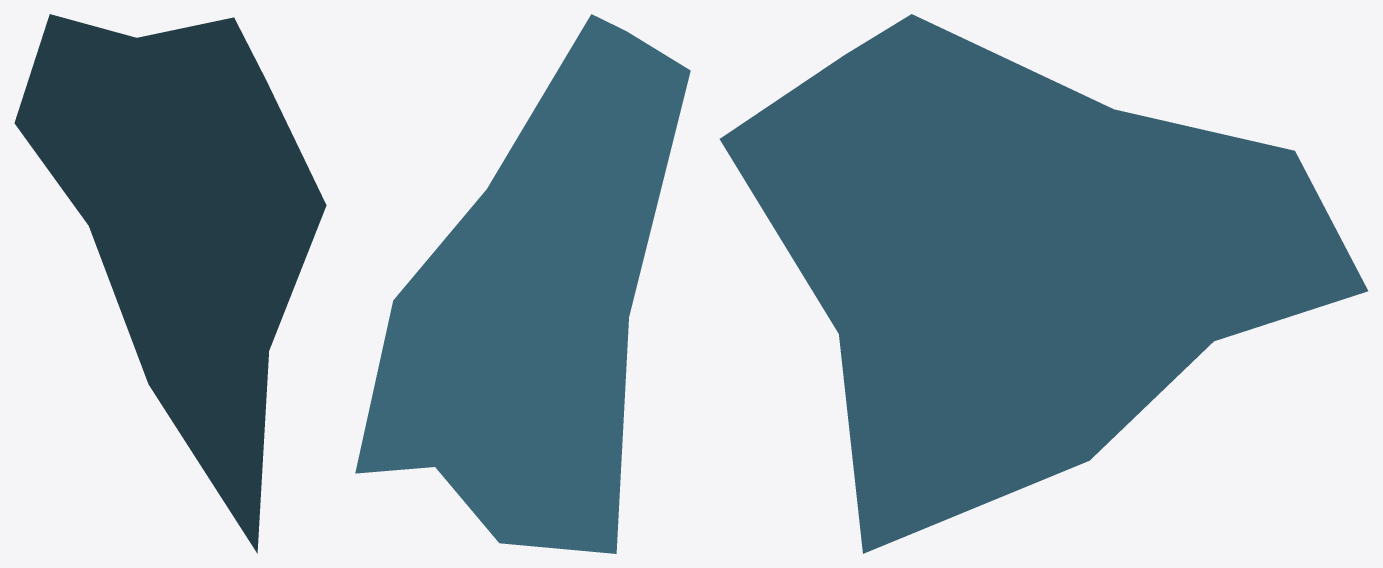
File: NexusC_Cloth_27.fbx
The picture shows the model from 3 angles, left to right: view 1: azimuth 30°, elevation 25°; view 2: azimuth 150°, elevation 25°; view 3: azimuth 270°, elevation 25°; orthographic projection. The views are drawn at different scales.
Visible parts, largest first — view 1: polySurface39; view 2: polySurface39; view 3: polySurface39.
Part boxes in pixels (x1,y1,x2,y2): polySurface39: (14, 14, 326, 553); polySurface39: (355, 14, 690, 553); polySurface39: (719, 14, 1367, 553).
Bounding box in the file's own units: 0 × 41.41 × 45.11.
